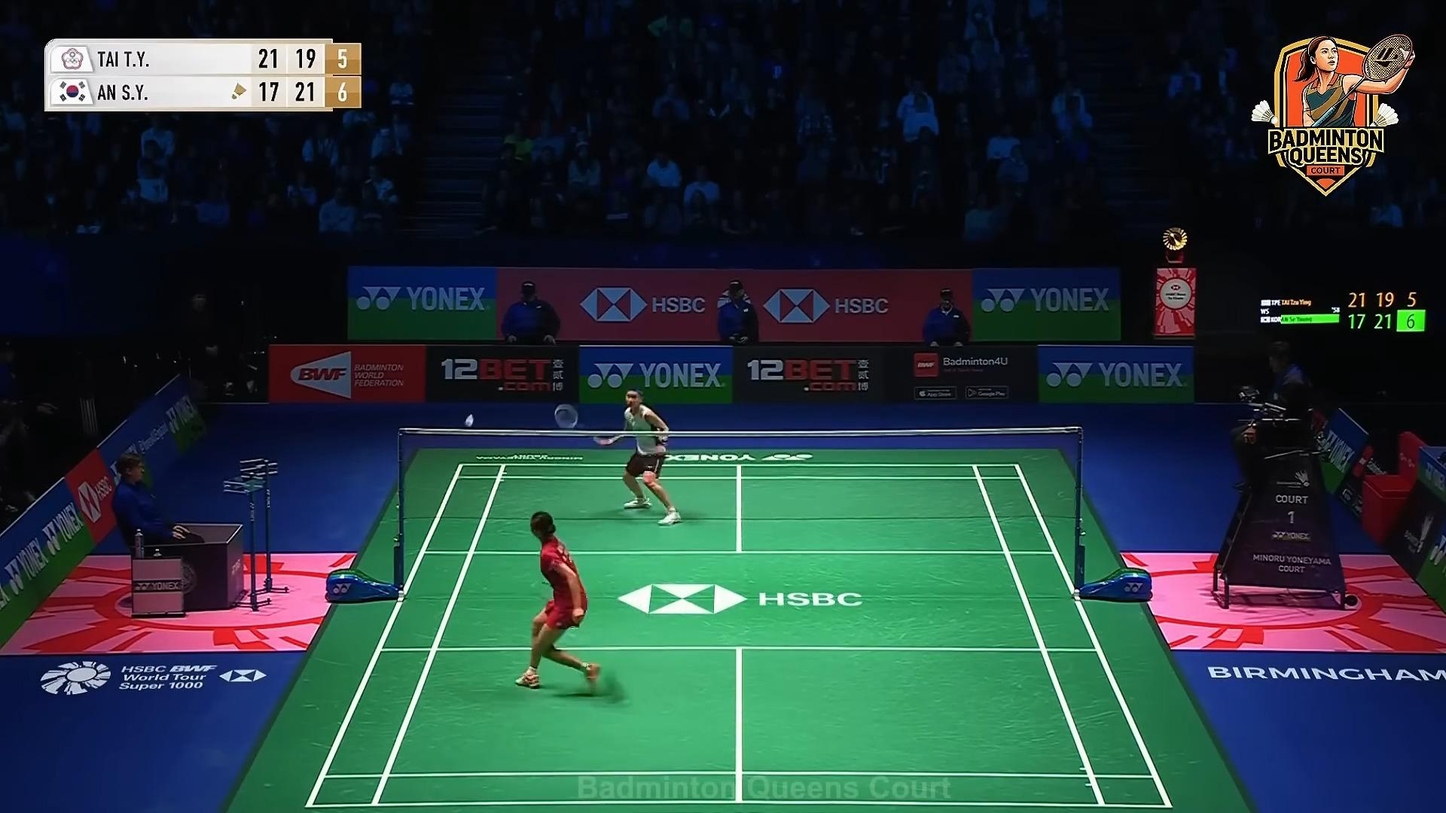player: (515, 511, 600, 693), (596, 386, 680, 525)
